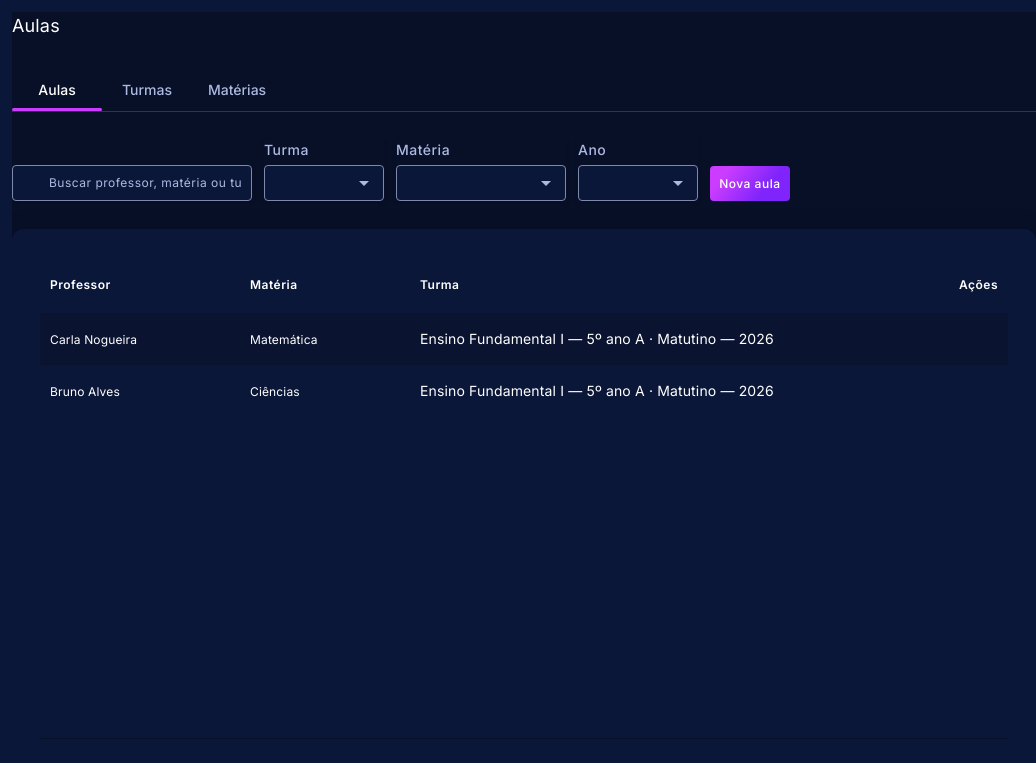
Test: Lessons page › offers the cohort by its letter alone
Expected: the text "Carla Nogueira" is shown, 50,332 -> 137,347
What coordinates should you click on to do the following:
click the 1st dropdown named "turma"
I would click on:
 (324, 183)
Its box is 275,174 -> 373,192.
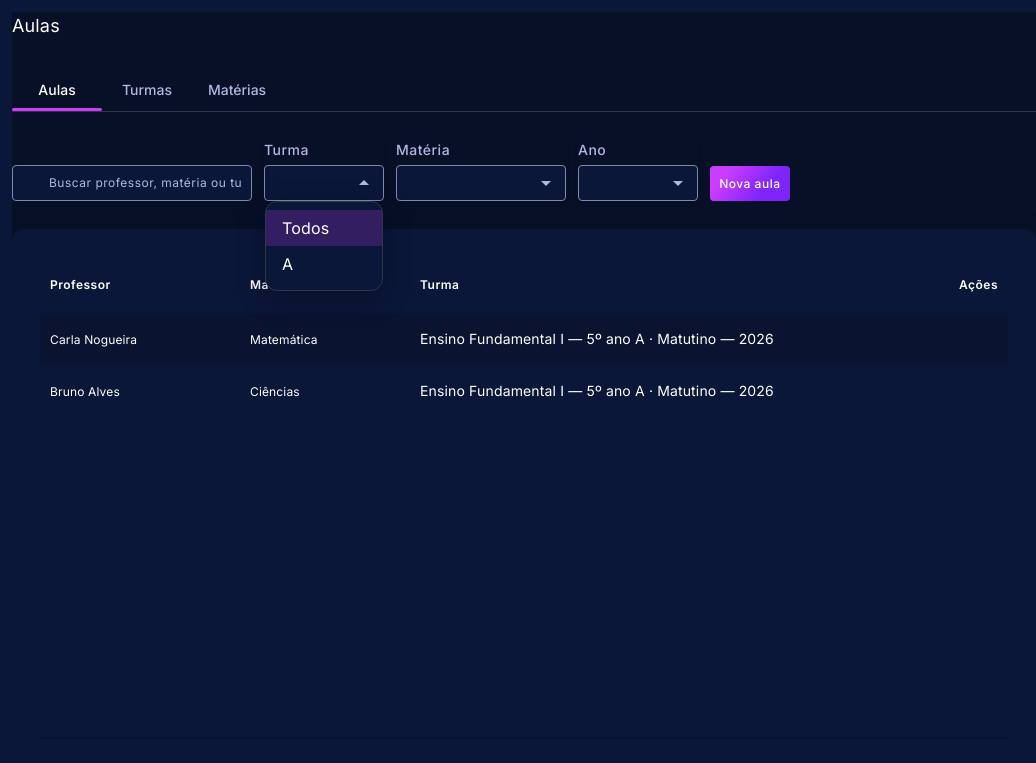
Expected: the option "A" is shown, 282,254 -> 293,274
